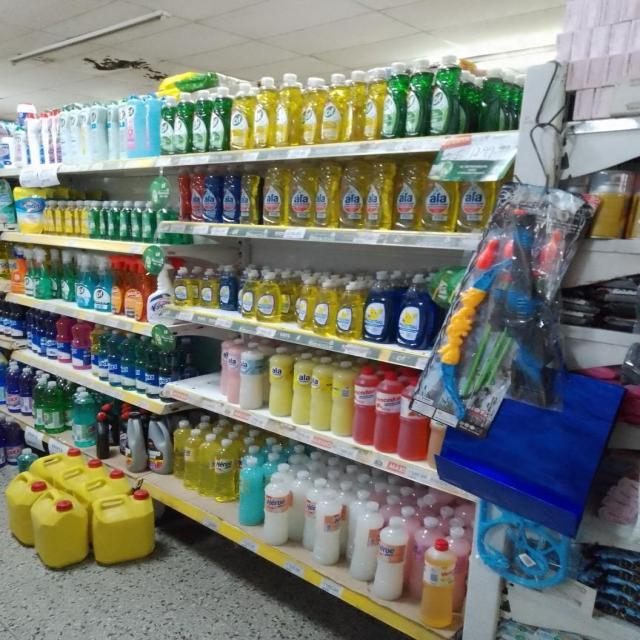ala_conc_amarillo: (458, 159, 494, 233), (422, 160, 456, 232), (393, 159, 420, 232), (365, 160, 392, 230), (339, 160, 364, 229), (288, 162, 313, 227), (314, 161, 338, 228), (262, 162, 286, 226), (240, 162, 260, 225)
ala_conc_azul: (202, 164, 220, 223), (222, 164, 239, 224)
ala_conc_rojo: (189, 165, 203, 222), (175, 166, 189, 222)
ala_crem_amarillo: (332, 359, 354, 439), (268, 346, 291, 420), (310, 356, 331, 431), (291, 352, 310, 426)
ala_crem_rosado: (220, 336, 239, 406)
cif_conc_bot_amarilla: (322, 73, 345, 144), (302, 76, 321, 146), (363, 68, 381, 141), (345, 70, 362, 142)
heroe: (372, 516, 410, 602), (262, 471, 291, 546), (214, 438, 236, 503)
magistral_con_amarillo: (256, 270, 282, 323), (238, 268, 256, 319)
magistral_con_azul: (396, 273, 433, 350), (364, 270, 394, 344)
vencedor: (418, 516, 464, 630), (375, 373, 401, 455), (354, 366, 376, 448)
